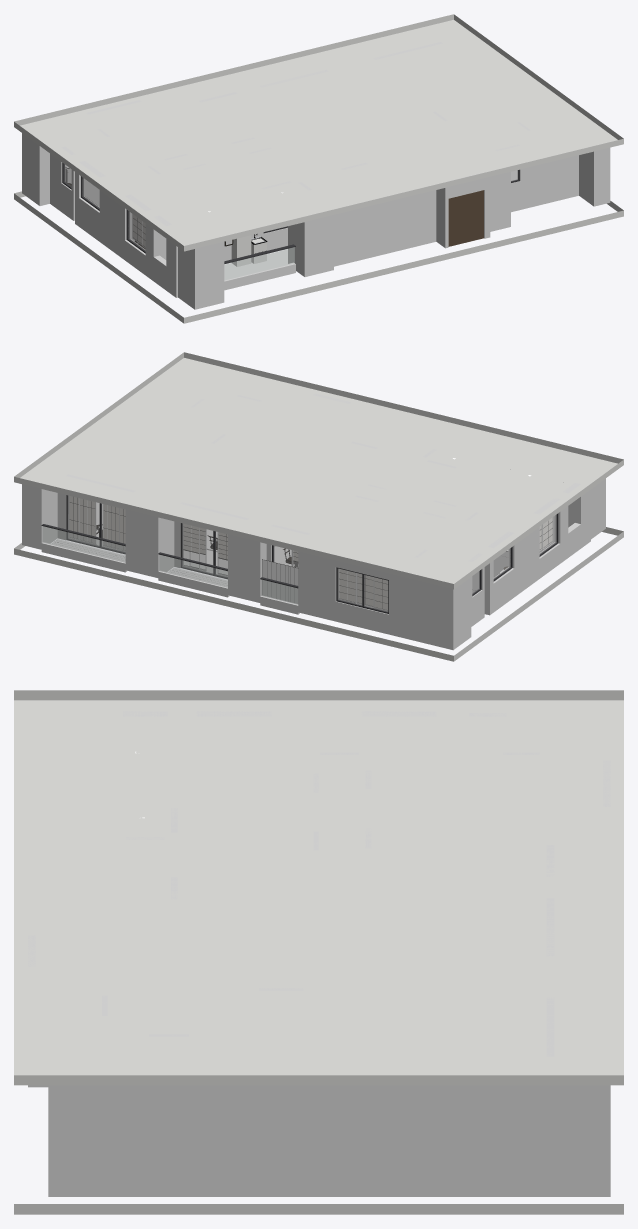
The picture shows the model from 3 angles, top to bottom: view 1: azimuth 30°, elevation 25°; view 2: azimuth 150°, elevation 25°; view 3: azimuth 270°, elevation 25°; orthographic projection. The views are drawn at different scales.
Parts seen in each view (by area): view 1: BAKE_arch, GLASS, BAKE_furn; view 2: BAKE_arch, GLASS, BAKE_furn, VC_furn; view 3: BAKE_arch.
Boxes of the visible parts, box(x1,y1,x2,y2) form: BAKE_arch: box(14, 14, 623, 323); GLASS: box(64, 164, 517, 280); BAKE_furn: box(65, 165, 266, 266); BAKE_arch: box(14, 352, 623, 661); GLASS: box(43, 495, 556, 611); BAKE_furn: box(51, 496, 553, 611); VC_furn: box(70, 497, 552, 608); BAKE_arch: box(14, 690, 623, 1214).
Size of the model in its own units: 20.72 by 3.5 by 13.88.
